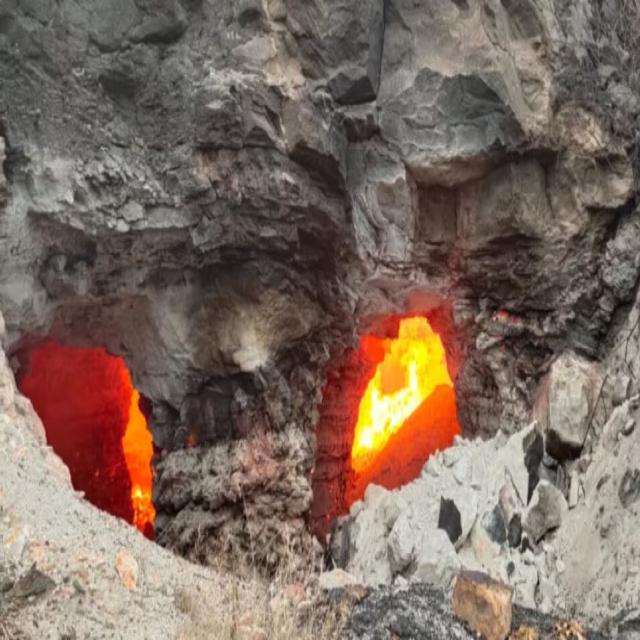fire: (354, 319, 454, 457)
